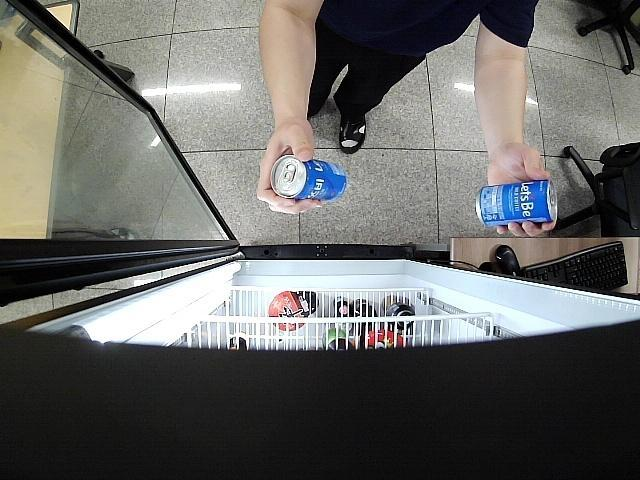15_letsbe: (475, 179, 558, 228), (270, 154, 348, 204)
